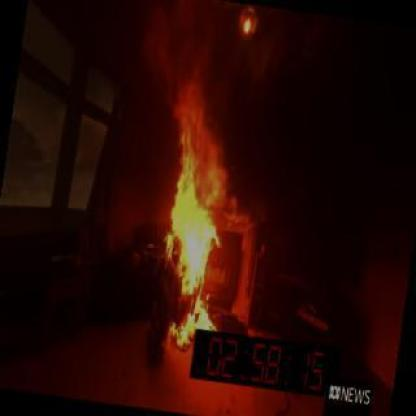Fire: (146, 122, 242, 332)
